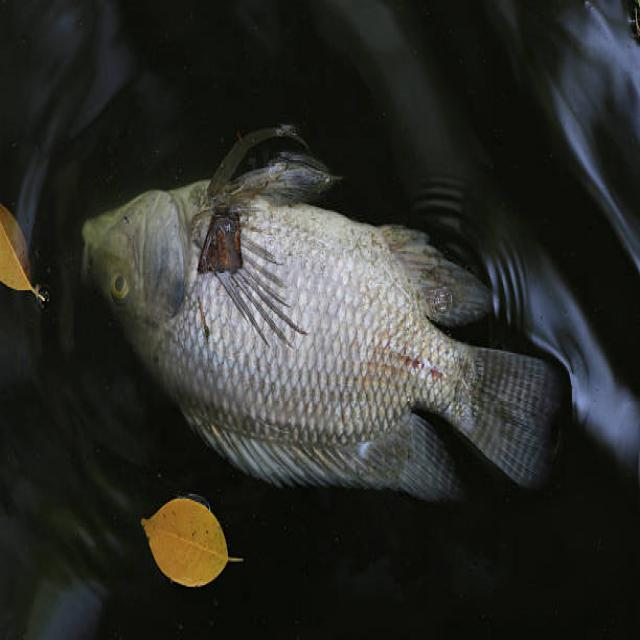EUS Disease: (75, 125, 580, 500)
